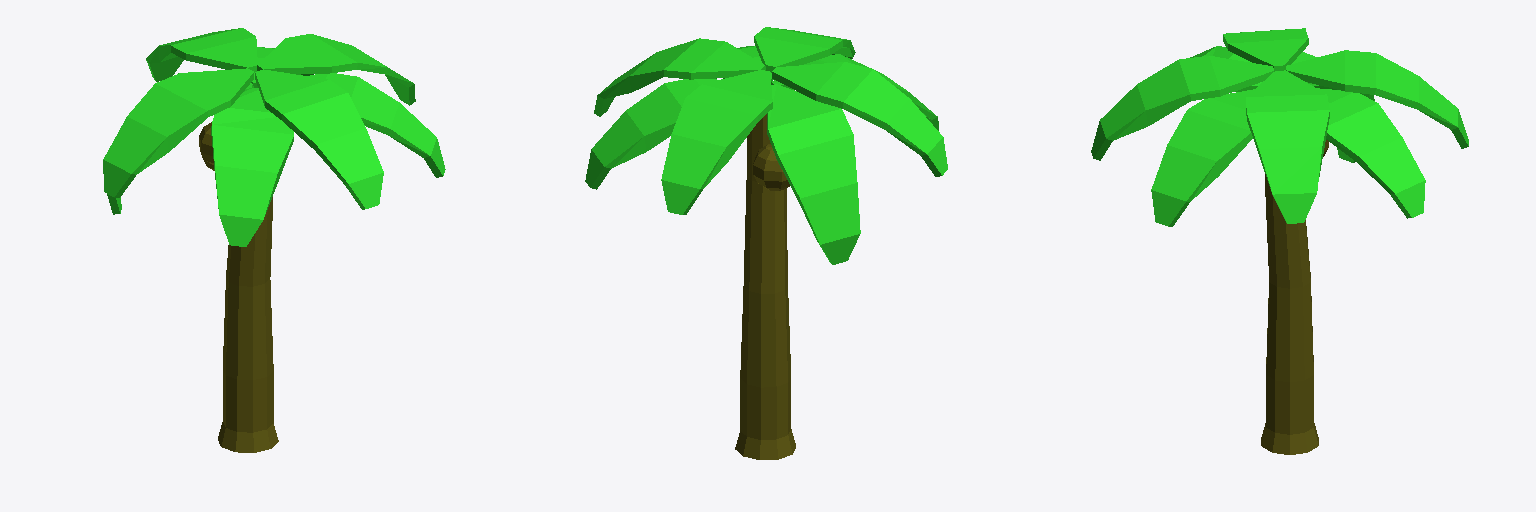
File: Palmera.obj
3 renders of one model, left to right at view 1: azimuth 30°, elevation 25°; view 2: azimuth 150°, elevation 25°; view 3: azimuth 270°, elevation 25°, orthographic.
Parts seen in each view (by area): view 1: pCylinder1, pCube10 polySurface4, pCube5, pCube4, pCube3, pCube10 polySurface2, pCube2; view 2: pCylinder1, pCube10 polySurface3, pCube2, pCube4, polySurface1 pCube10, pCube3, pCube5, pSphere3, pCube10 polySurface4; view 3: pCylinder1, pCube3, pCube10 polySurface2, pCube5, polySurface1 pCube10, pCube2, pCube4.
Part boxes in pixels (left/top/right/bottom): pCylinder1: left=218, top=197, right=278, bottom=452; pCube10 polySurface4: left=211, top=88, right=293, bottom=246; pCube5: left=255, top=69, right=383, bottom=209; pCube4: left=103, top=68, right=253, bottom=197; pCube3: left=257, top=34, right=415, bottom=105; pCube10 polySurface2: left=309, top=73, right=445, bottom=177; pCube2: left=146, top=28, right=256, bottom=81; pCylinder1: left=735, top=114, right=795, bottom=459; pCube10 polySurface3: left=767, top=84, right=860, bottom=264; pCube2: left=661, top=70, right=772, bottom=214; pCube4: left=772, top=62, right=947, bottom=176; polySurface1 pCube10: left=585, top=79, right=716, bottom=189; pCube3: left=594, top=38, right=765, bottom=116; pCube5: left=754, top=27, right=855, bottom=72; pSphere3: left=753, top=144, right=789, bottom=190; pCube10 polySurface4: left=771, top=54, right=938, bottom=130; pCylinder1: left=1261, top=174, right=1318, bottom=454; pCube3: left=1246, top=70, right=1329, bottom=223; pCube10 polySurface2: left=1151, top=89, right=1254, bottom=226; pCube5: left=1091, top=56, right=1273, bottom=160; polySurface1 pCube10: left=1317, top=88, right=1425, bottom=218; pCube2: left=1286, top=50, right=1468, bottom=148; pCube4: left=1223, top=28, right=1308, bottom=71.
Bounding box in the file's own units: 15.5 × 17.02 × 15.53.